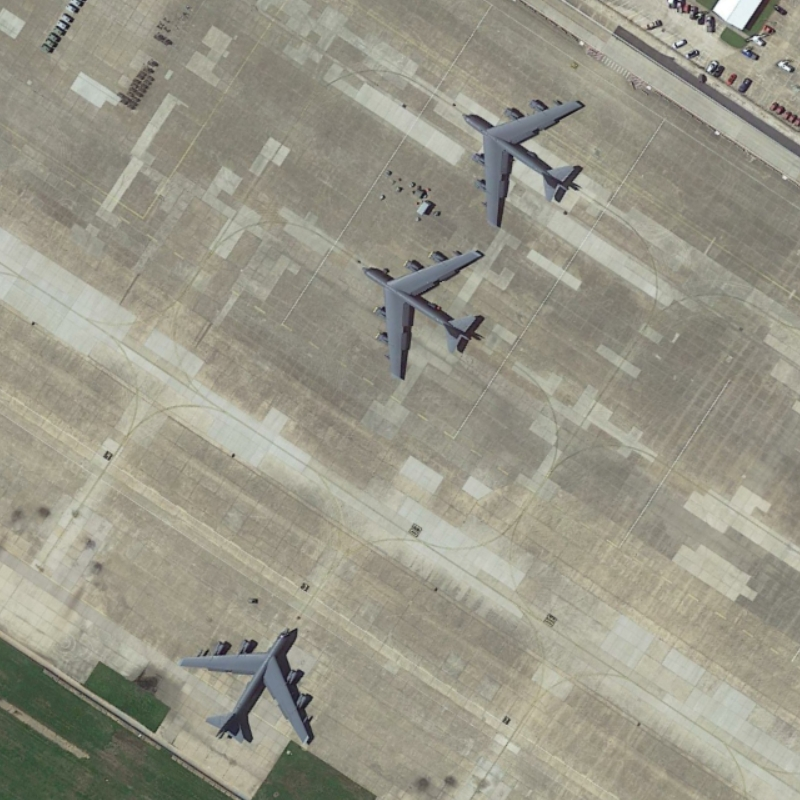A8: (173, 618, 321, 756), (358, 244, 497, 386), (453, 91, 594, 227)
